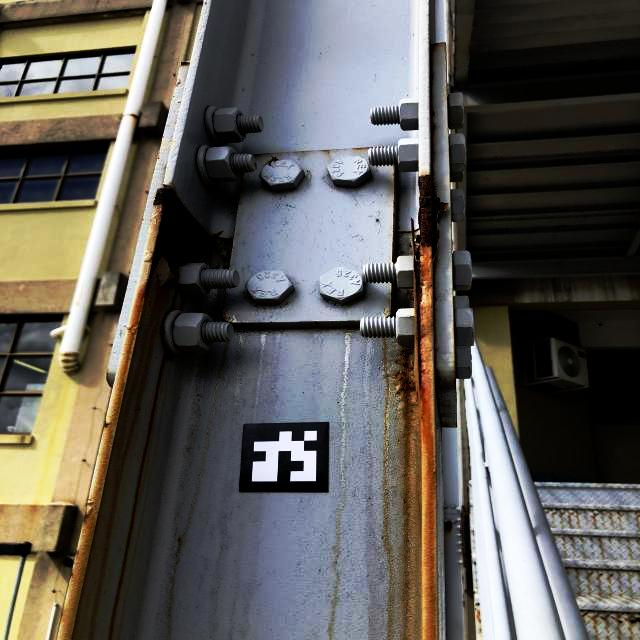Corrosion: (130, 187, 212, 325), (417, 174, 432, 389), (394, 346, 415, 394), (222, 238, 234, 246), (445, 521, 453, 531), (630, 617, 640, 624), (84, 510, 89, 523), (618, 620, 623, 624)
